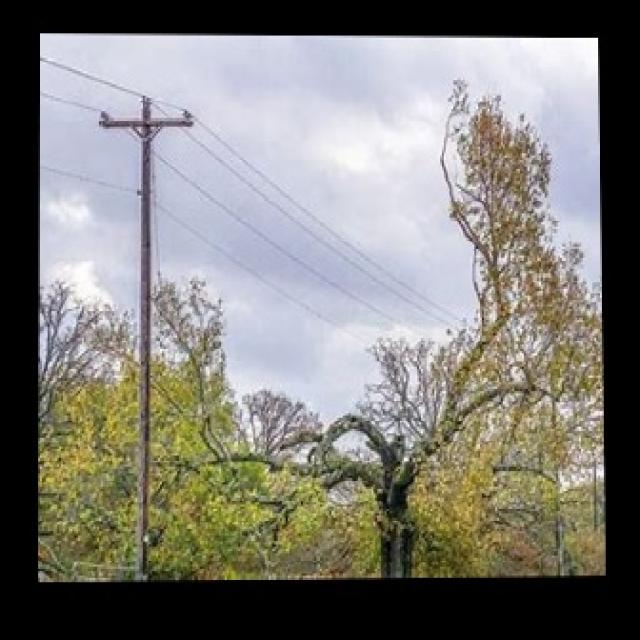utility poles: (95, 83, 186, 581)
